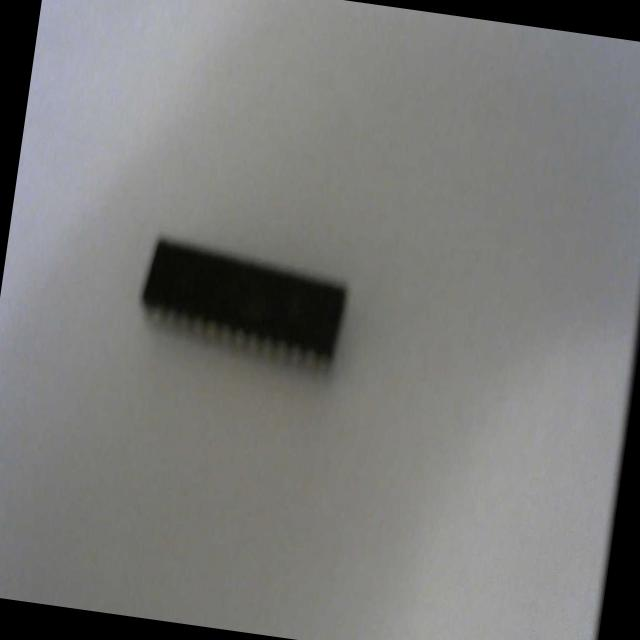atmega: (130, 228, 356, 382)
